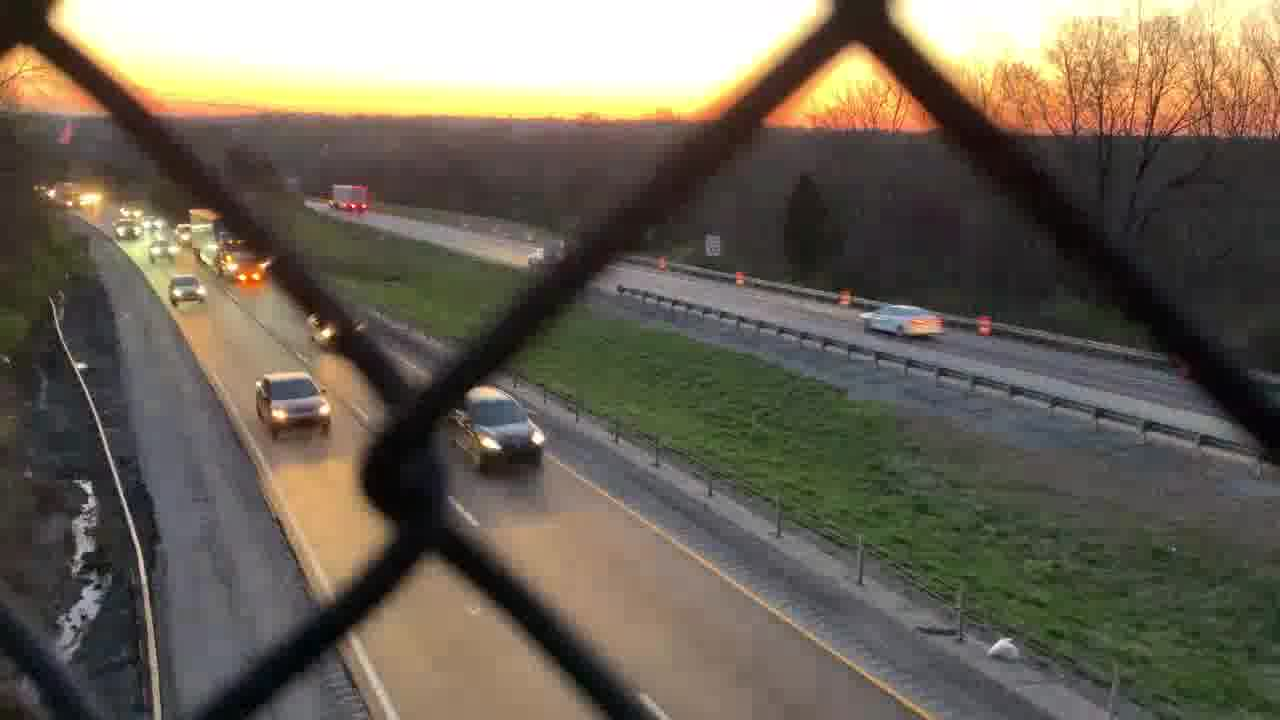smallCar: (861, 300, 944, 339)
